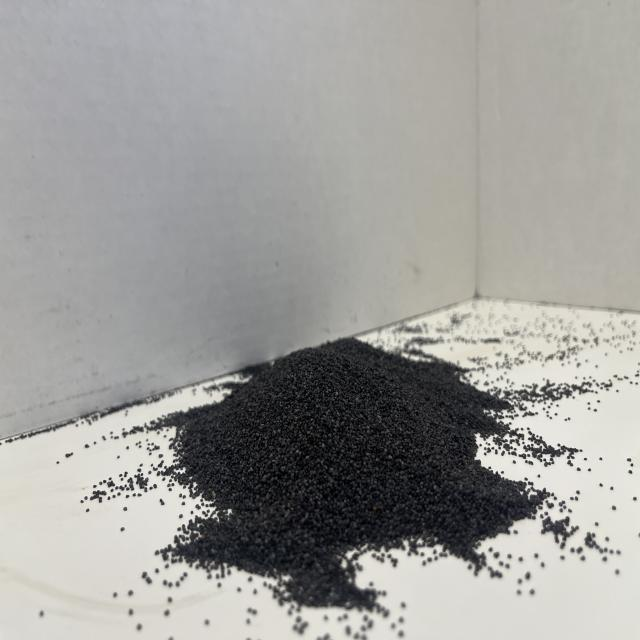Poppy Seeds: (142, 327, 583, 617)
